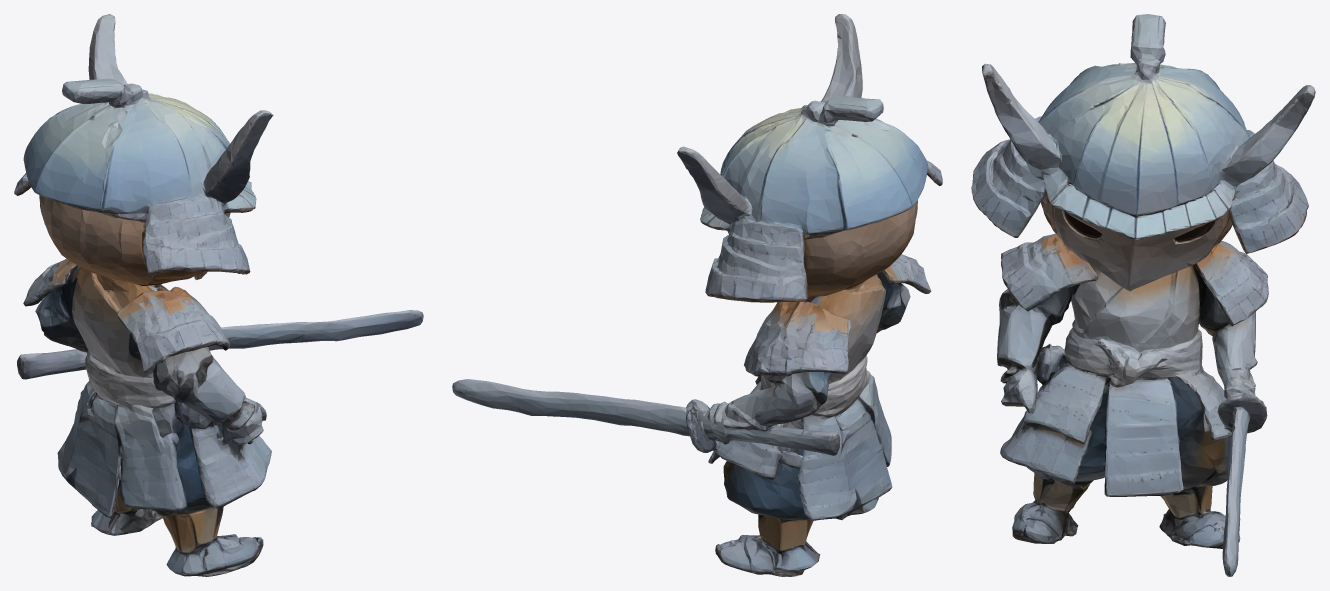
Rendered from Player.B.glb.
3 renders of one model, left to right at view 1: azimuth 30°, elevation 25°; view 2: azimuth 150°, elevation 25°; view 3: azimuth 270°, elevation 25°, orthographic. The views are drawn at different scales.
Parts seen in each view (by area): view 1: tripo_node_5a5279b0-3f69-487f-b13e-dcb8c54980d1; view 2: tripo_node_5a5279b0-3f69-487f-b13e-dcb8c54980d1; view 3: tripo_node_5a5279b0-3f69-487f-b13e-dcb8c54980d1.
Boxes of the visible parts, x1,y1,x2,y2 form: tripo_node_5a5279b0-3f69-487f-b13e-dcb8c54980d1: (14, 14, 423, 576); tripo_node_5a5279b0-3f69-487f-b13e-dcb8c54980d1: (452, 14, 942, 576); tripo_node_5a5279b0-3f69-487f-b13e-dcb8c54980d1: (971, 14, 1315, 576).
Size of the model in its own units: 0.9387 by 1 by 0.639.
Materials: 1 (1 with a texture image).
